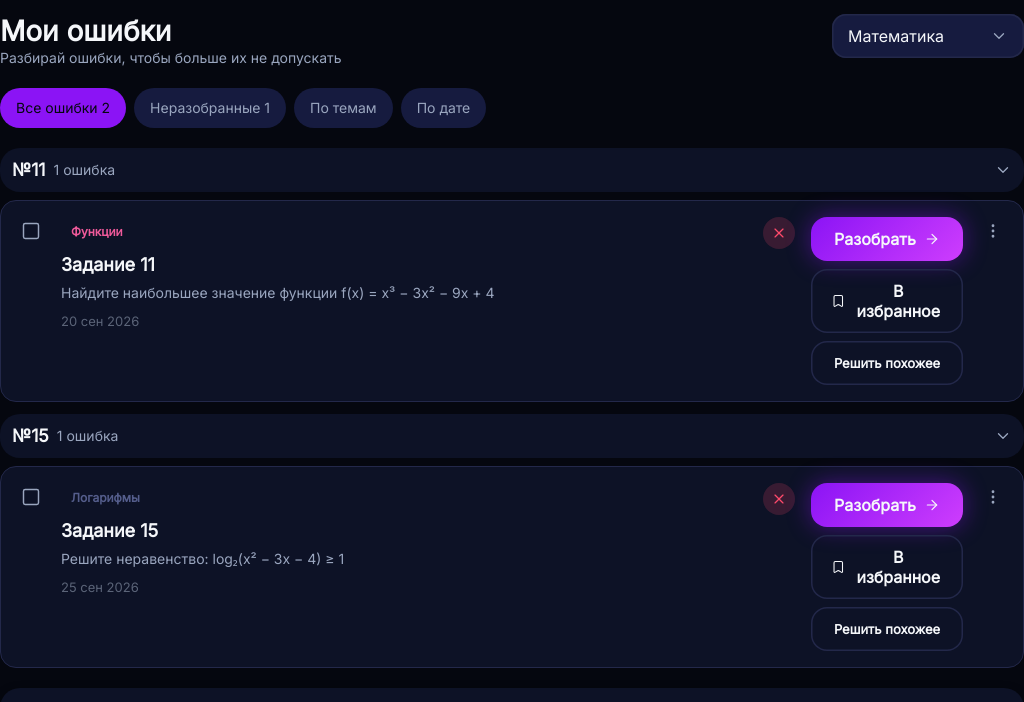
it: MistakesDesktop — "Решить похожее" (deterministic similarity engine, same taskNumber only) › on a real candidate list, opens the first similar task carrying the whole list as customOrderedTasks
Expected: the text "Решите неравенство: log₂(x² − 3x − 4) ≥ 1" is shown, left=61, top=550, right=344, bottom=567
Step 1. Click the 1st button "Решить похожее" → x=887, y=363, box left=811, top=341, right=963, bottom=385
(page scrolled)
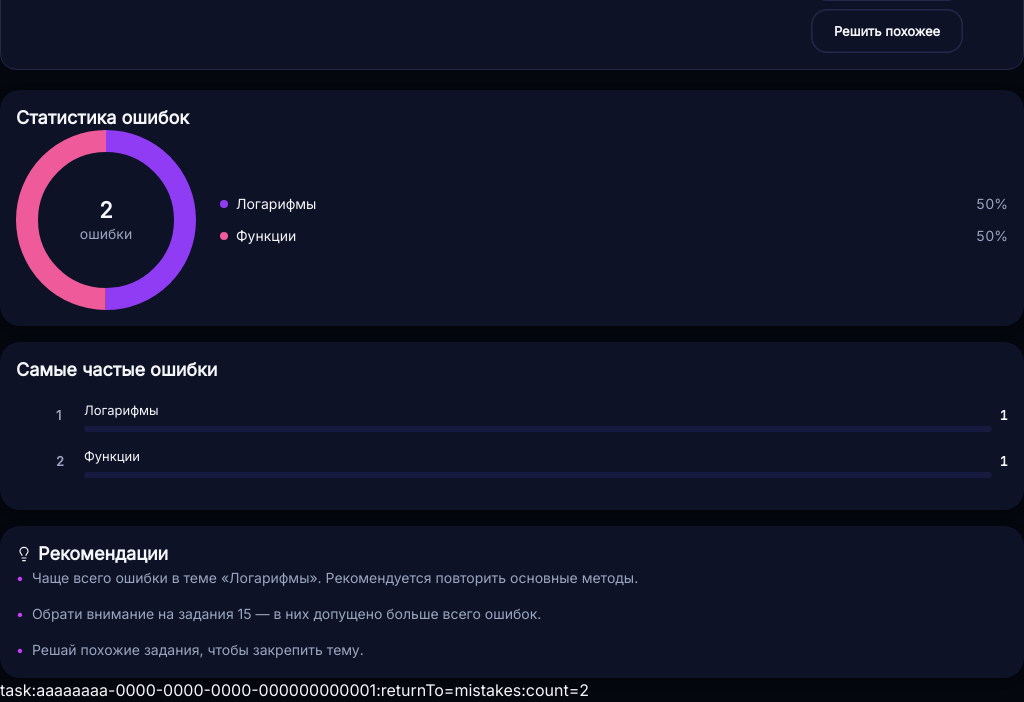
Expected: the text with test id "overlay" reads "task:aaaaaaaa-0000-0000-0000-000000000001:returnTo=mistakes:count=2", left=0, top=680, right=589, bottom=700
